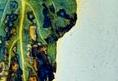Tomato leaf bacterial spot: (0, 0, 85, 81)
